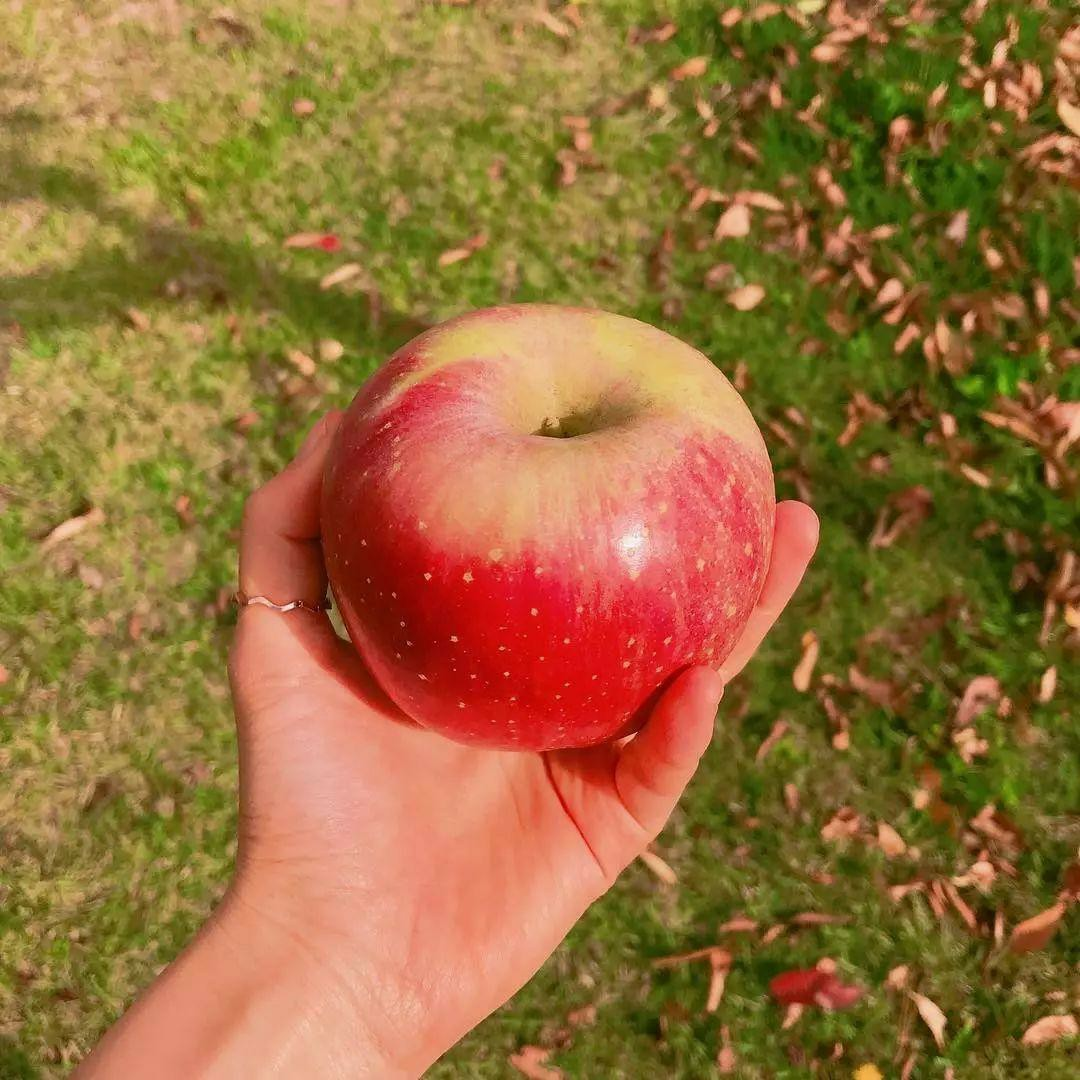fresh_apple: (319, 302, 780, 751)
